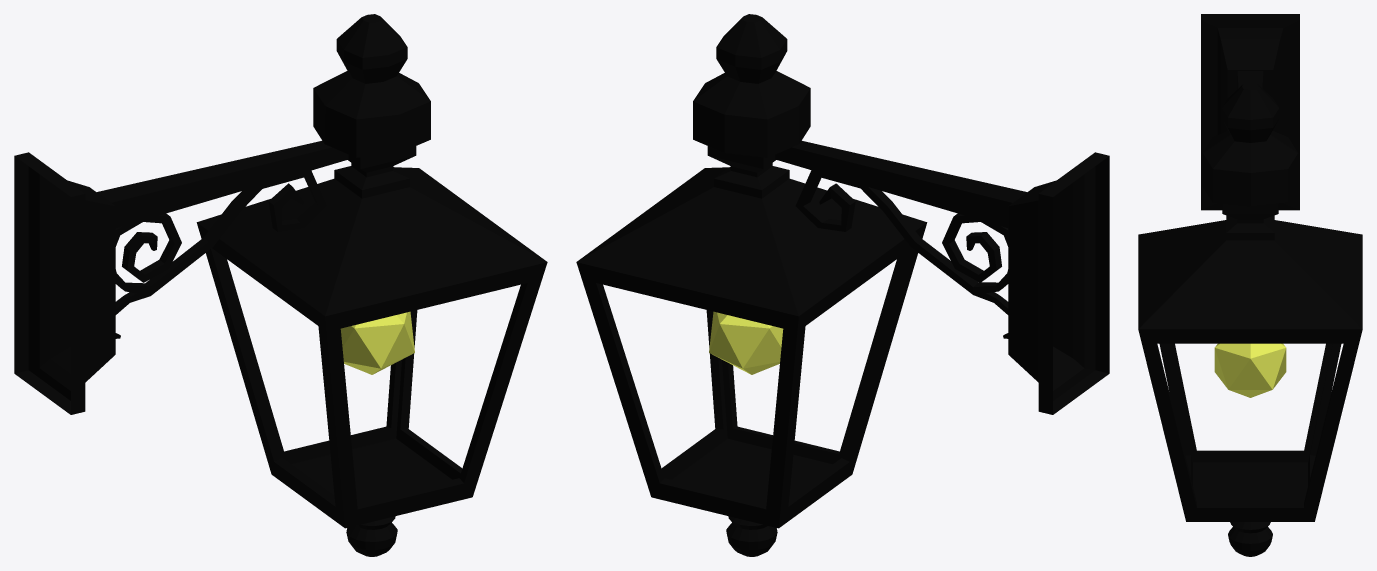
The model's file is Wall_Light.fbx.
3 views of the same model, side by side, from view 1: azimuth 30°, elevation 25°; view 2: azimuth 150°, elevation 25°; view 3: azimuth 270°, elevation 25° (orthographic). The views are drawn at different scales.
Parts seen in each view (by area): view 1: Light; view 2: Light; view 3: Light.
Part boxes in pixels (x1,y1,x2,y2): Light: [14, 14, 547, 556]; Light: [576, 14, 1109, 556]; Light: [1138, 14, 1362, 556].
Bounding box in the file's own units: 0.7175 × 0.8341 × 0.3623.
